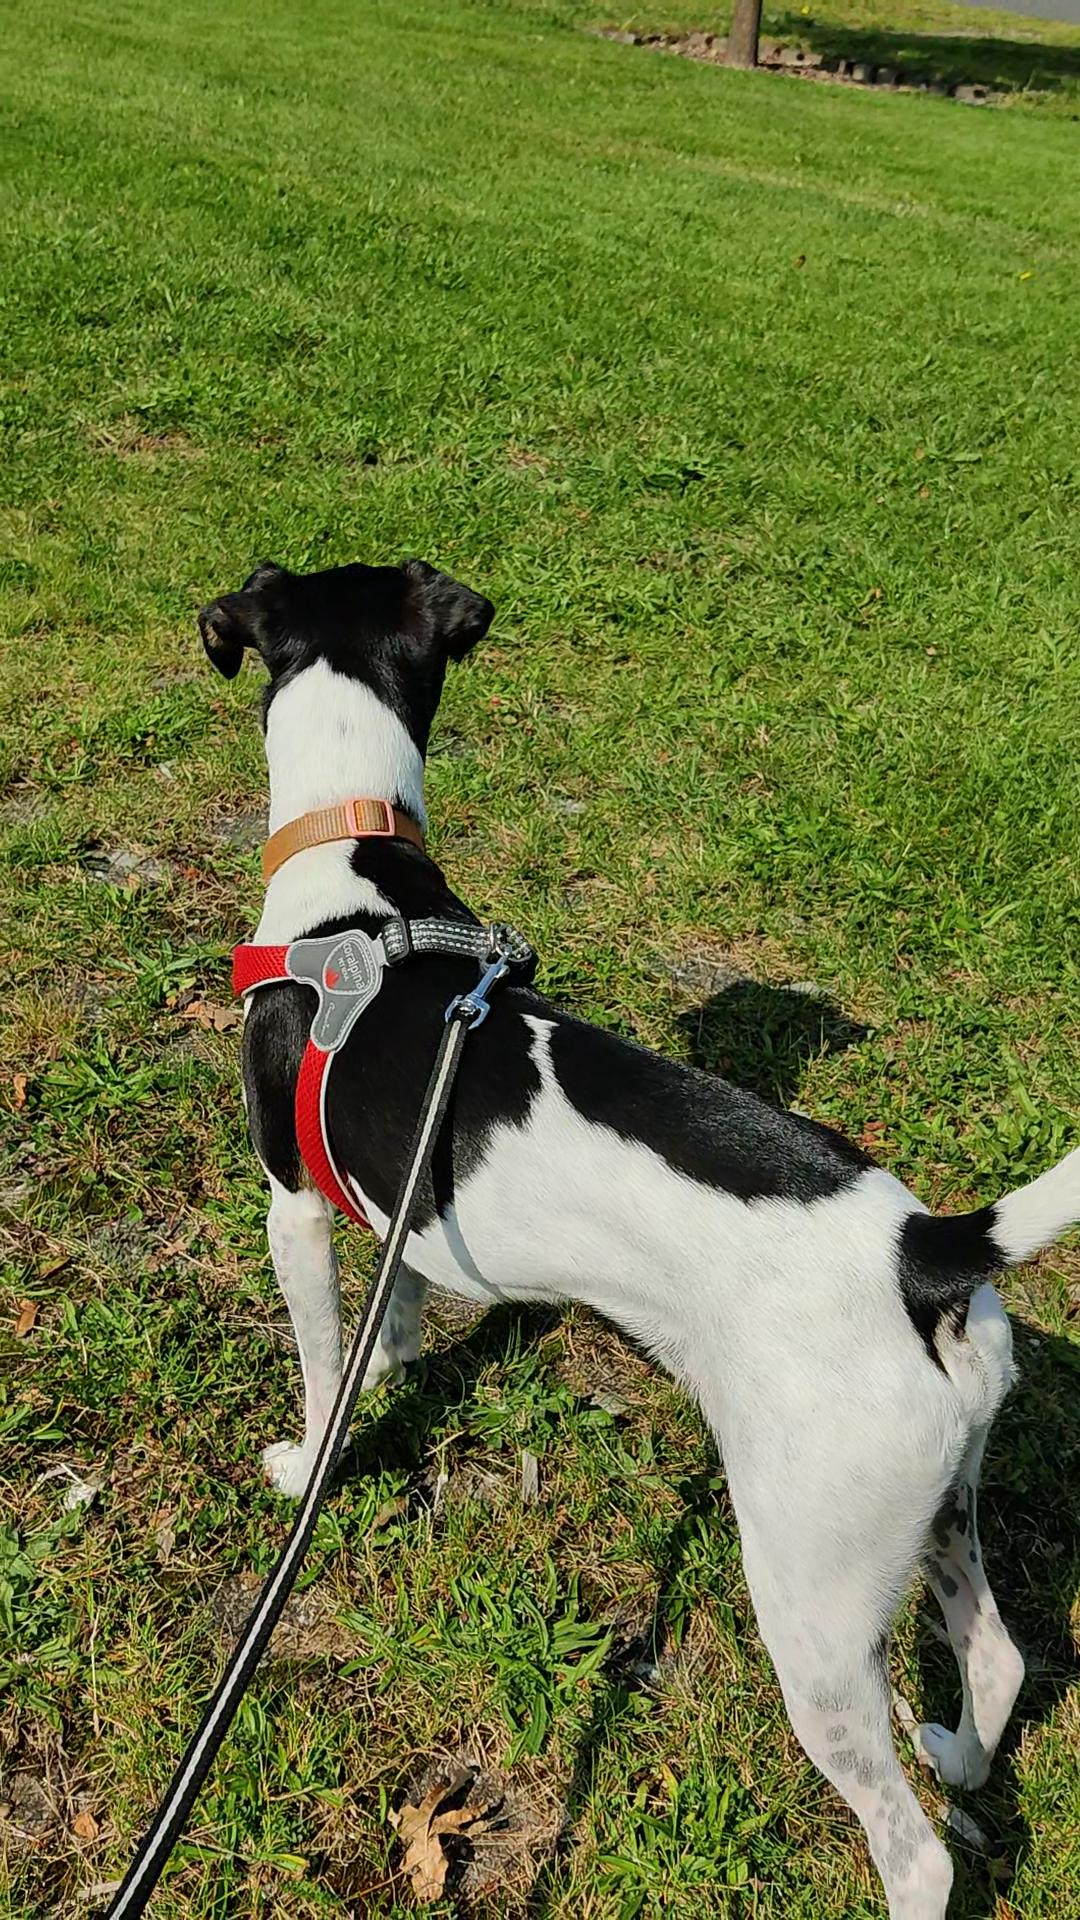Dog: (167, 545, 1079, 1919)
